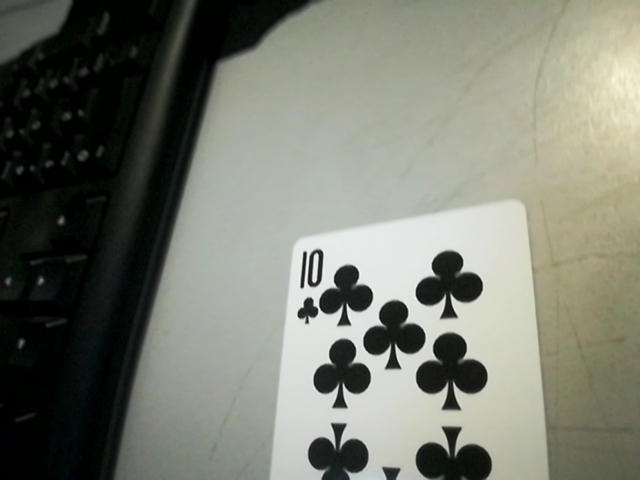mh 10: (283, 238, 331, 325)
